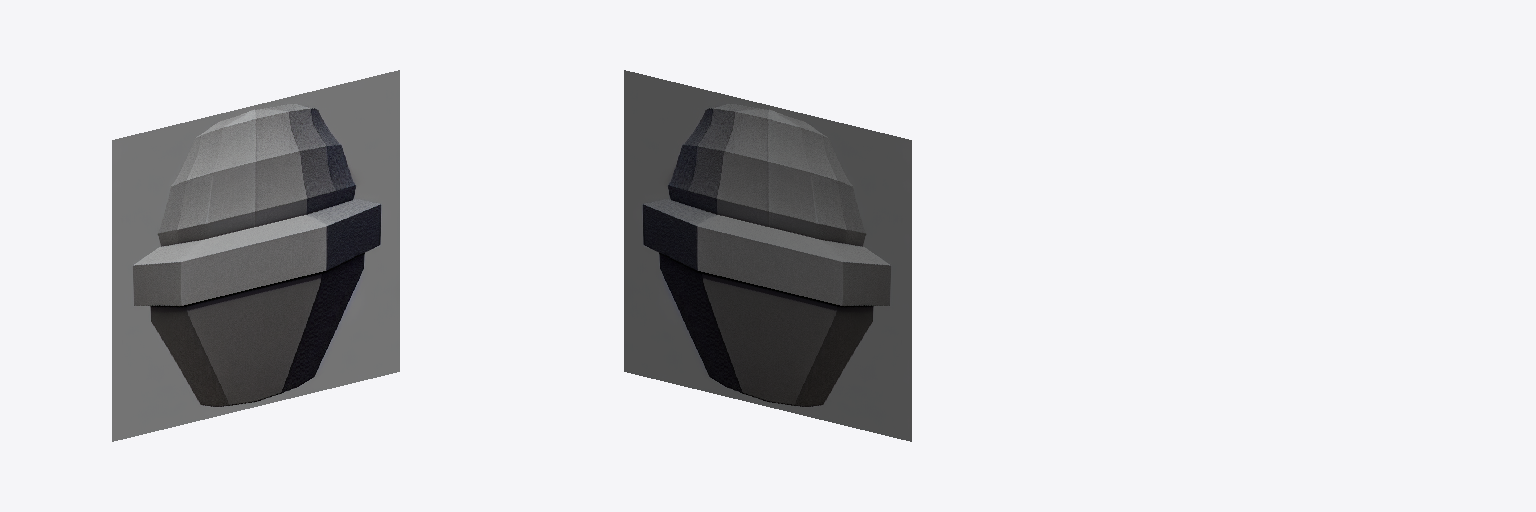
The picture shows the model from 3 angles: view 1: azimuth 30°, elevation 25°; view 2: azimuth 150°, elevation 25°; view 3: azimuth 270°, elevation 25°; orthographic projection.
Visible parts, largest first — view 1: fallback_quad; view 2: fallback_quad; view 3: none.
Part boxes in pixels (x1,y1,x2,y2): fallback_quad: (112, 70, 399, 441); fallback_quad: (624, 70, 911, 441).
Bounding box in the file's own units: 1 × 1 × 0.
1 materials, 1 textured.